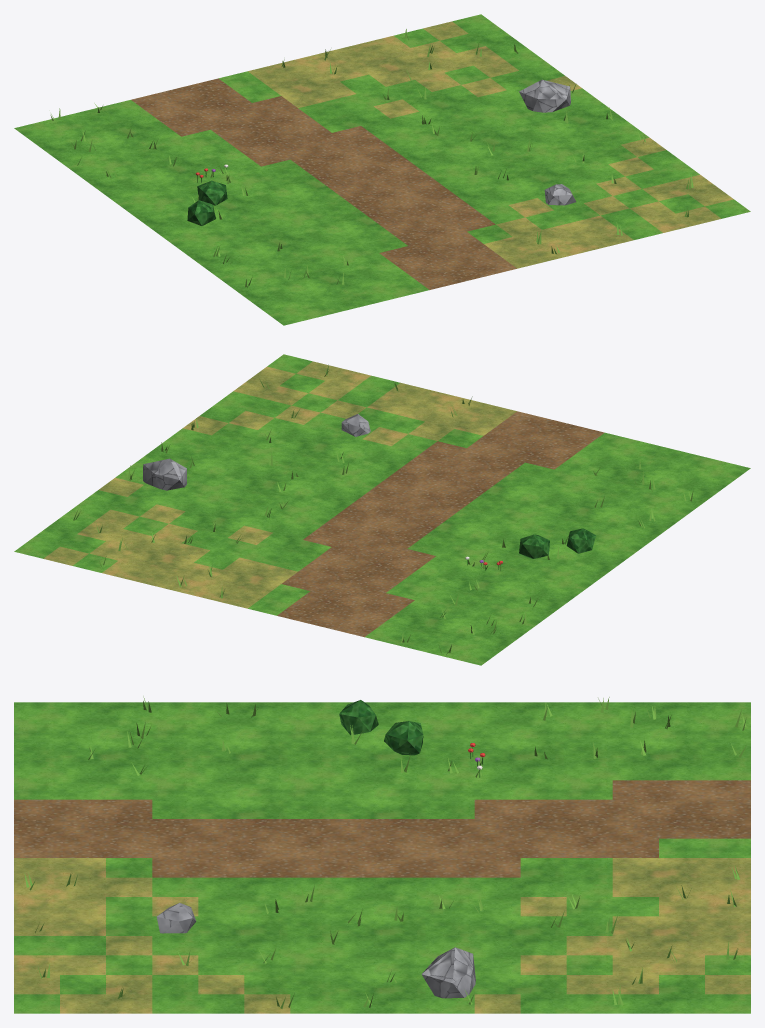
File: chunk_8_4.glb
3 renders of one model, top to bottom at view 1: azimuth 30°, elevation 25°; view 2: azimuth 150°, elevation 25°; view 3: azimuth 270°, elevation 25°, orthographic. The views are drawn at different scales.
Parts seen in each view (by area): view 1: chunk_8_4; view 2: chunk_8_4; view 3: chunk_8_4.
Part boxes in pixels (box(x1,y1,x2,y2)): chunk_8_4: box(14, 14, 750, 325); chunk_8_4: box(14, 354, 750, 665); chunk_8_4: box(14, 696, 750, 1013).
Size of the model in its own units: 16 by 1.25 by 16.
10 materials, 6 textured.
